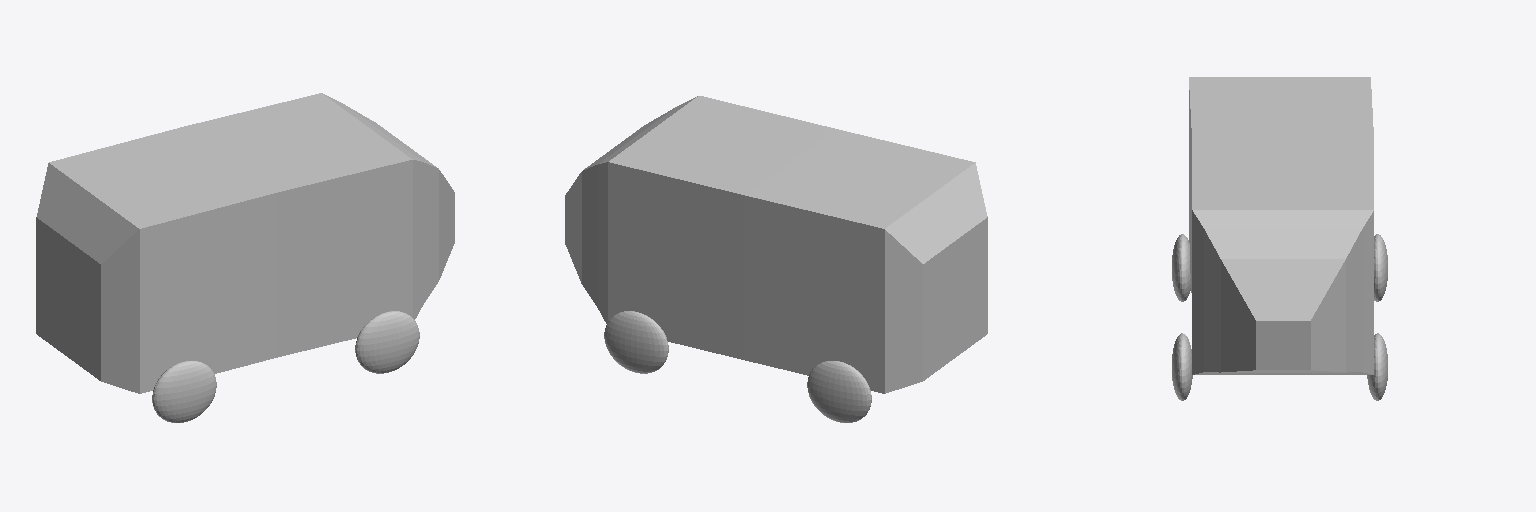
File: Auto-modelblend.obj
3 renders of one model, left to right at view 1: azimuth 30°, elevation 25°; view 2: azimuth 150°, elevation 25°; view 3: azimuth 270°, elevation 25°, orthographic.
Parts seen in each view (by area): view 1: Cube_Cube.003, Sphere, Sphere.001_Sphere.003; view 2: Cube_Cube.003, Sphere, Sphere.001_Sphere.003; view 3: Cube_Cube.003, Sphere, Sphere.001_Sphere.003.
Part boxes in pixels (bbox=[...]): Cube_Cube.003: bbox=[36, 93, 454, 393]; Sphere: bbox=[355, 311, 419, 373]; Sphere.001_Sphere.003: bbox=[152, 361, 216, 422]; Cube_Cube.003: bbox=[565, 96, 987, 393]; Sphere: bbox=[604, 311, 668, 373]; Sphere.001_Sphere.003: bbox=[807, 361, 871, 422]; Cube_Cube.003: bbox=[1189, 77, 1373, 374]; Sphere: bbox=[1172, 333, 1387, 400]; Sphere.001_Sphere.003: bbox=[1172, 234, 1387, 301].
Size of the model in its own units: 4.75 by 2.45 by 2.38.